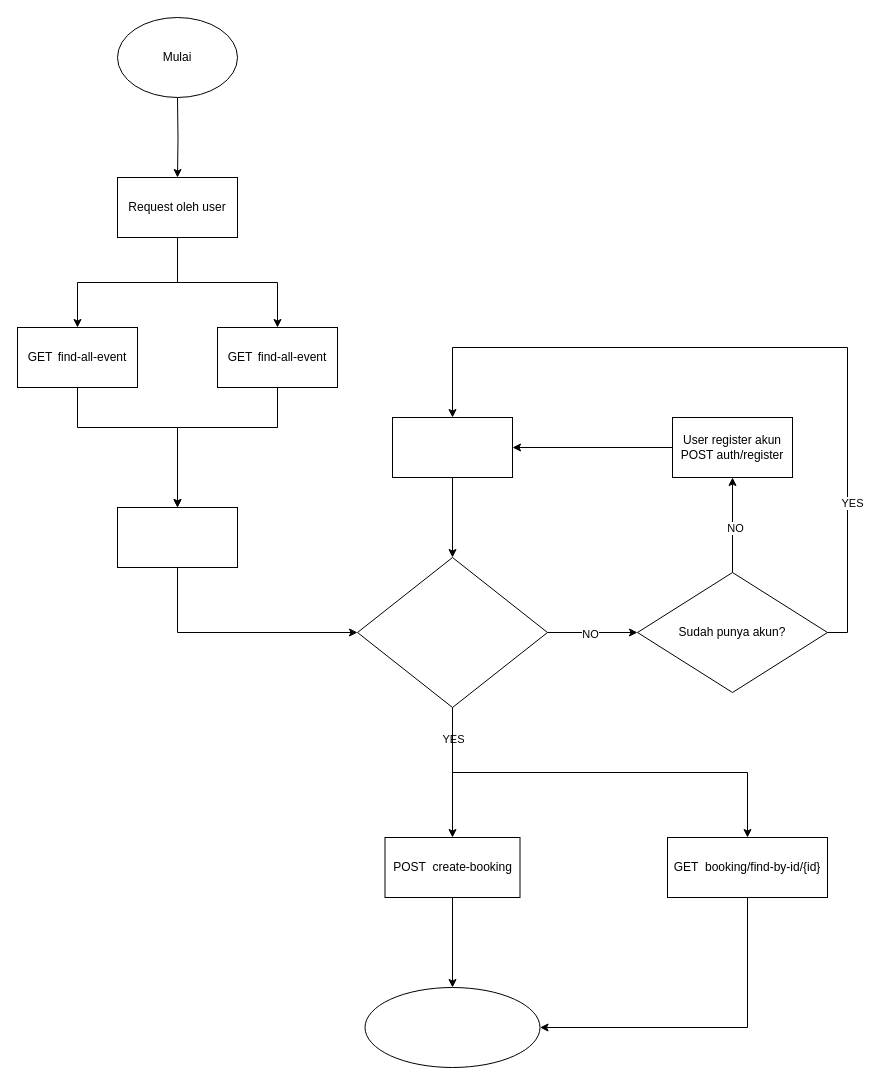
The diagram is 880 pixels wide and 1085 high, and some of its shapes have lost their labels. The shapes that lost their labels are listed below. From the top down, each one's centre as x and y in pixels, then its label:
At [452,447]: "User melakukan login POST auth/login".
At [177,537]: "User melakukan booking".
At [452,632]: "User sudah login?".
At [452,1027]: "Selesai".
